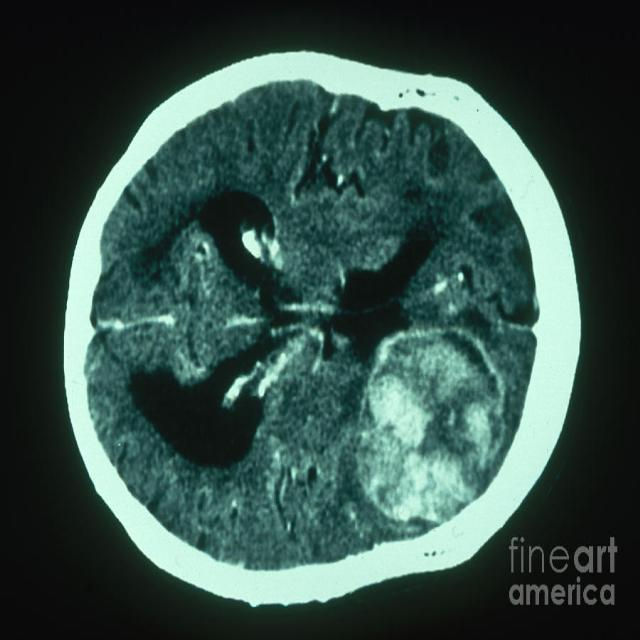Tumor: (364, 341, 485, 502)
